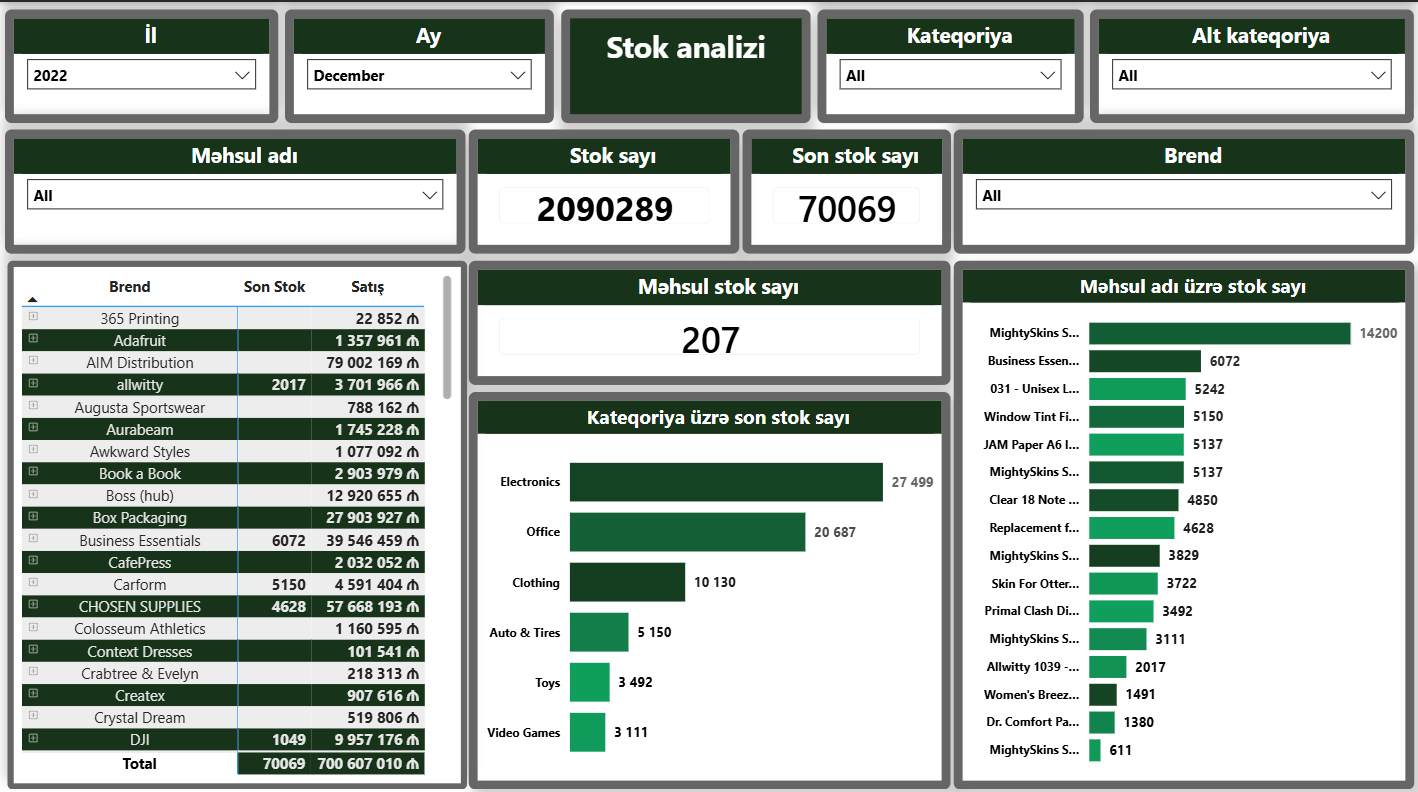

The dashboard page shown, as its layout file describes it:
{"tool":"powerbi","page":{"name":"Alberta əyaləti üzrə Stok Analizi","canvas":[1280,720],"ordinal":2},"visuals":[{"type":"textbox","box":[506.3,6.2,225.2,102],"z":0},{"type":"slicer","title":"İl","fields":{"Values":["Calendar.Date.Variation.Date Hierarchy.Year"]},"box":[5,6.2,246.3,102],"z":1000},{"type":"slicer","title":"Alt kateqoriya","fields":{"Values":["Walmart_sku.Alt kateqoriya"]},"box":[982.7,6.2,292.3,102],"z":2000},{"type":"slicer","title":"Məhsul adı","fields":{"Values":["Walmart_sku.Məhsul adı"]},"box":[5,114.4,415.5,112],"z":3000},{"type":"slicer","title":"Brend","fields":{"Values":["Walmart_sku.Brend"]},"box":[859.6,114.4,415.5,112],"z":4000},{"type":"slicer","title":"Kateqoriya","fields":{"Values":["Walmart_sku.Kateqoriya"]},"box":[736.7,6.2,240.1,102],"z":5000},{"type":"slicer","title":"Ay","fields":{"Values":["Calendar.Date.Variation.Date Hierarchy.Month"]},"box":[257.2,6.2,242.6,102],"z":6000},{"type":"cardVisual","title":"Stok sayı","fields":{"Data":["Alberta Dax.Total stok"]},"box":[422.9,114.4,244,112],"z":7000},{"type":"cardVisual","title":"Son stok sayı","fields":{"Data":["Alberta Dax.Son Stok"]},"box":[669.3,114.4,187.8,112],"z":8000},{"type":"cardVisual","title":"Məhsul stok sayı","fields":{"Data":["Alberta Dax.Məhsul stok sayı"]},"box":[422.9,233.9,434.1,112],"z":9000},{"type":"clusteredBarChart","title":"Kateqoriya üzrə son stok sayı","fields":{"Category":["Walmart_sku.Kateqoriya"],"Y":["Alberta Dax.Son Stok"]},"box":[422.9,352,434.1,358.3],"z":10000},{"type":"clusteredBarChart","title":"Məhsul adı üzrə stok sayı","fields":{"Category":["Walmart_sku.Məhsul adı"],"Y":["Alberta Dax.Son Stok"]},"box":[859.6,233.9,415.5,476.4],"z":11000},{"type":"pivotTable","fields":{"Rows":["Walmart_sku.Brend","Walmart_sku.Məhsul adı"],"Values":["Alberta Dax.Son Stok","Satış Dax Quebec.01 Total satış"]},"box":[6.2,233.9,414.2,476.4],"z":12000}]}

Visuals, with their boxes in screenshot pixels (x1, y1, x2, y2), scaled from the page's 1280x720 canvas onto the 1418x792 screenshot:
textbox: box(561, 7, 810, 119)
"İl" slicer: box(6, 7, 278, 119)
"Alt kateqoriya" slicer: box(1089, 7, 1412, 119)
"Məhsul adı" slicer: box(6, 126, 466, 249)
"Brend" slicer: box(952, 126, 1413, 249)
"Kateqoriya" slicer: box(816, 7, 1082, 119)
"Ay" slicer: box(285, 7, 554, 119)
"Stok sayı" cardVisual: box(468, 126, 739, 249)
"Son stok sayı" cardVisual: box(741, 126, 950, 249)
"Məhsul stok sayı" cardVisual: box(468, 257, 949, 380)
"Kateqoriya üzrə son stok sayı" clusteredBarChart: box(468, 387, 949, 781)
"Məhsul adı üzrə stok sayı" clusteredBarChart: box(952, 257, 1413, 781)
pivotTable - Walmart_sku.Brend x Walmart_sku.Məhsul adı: box(7, 257, 466, 781)
